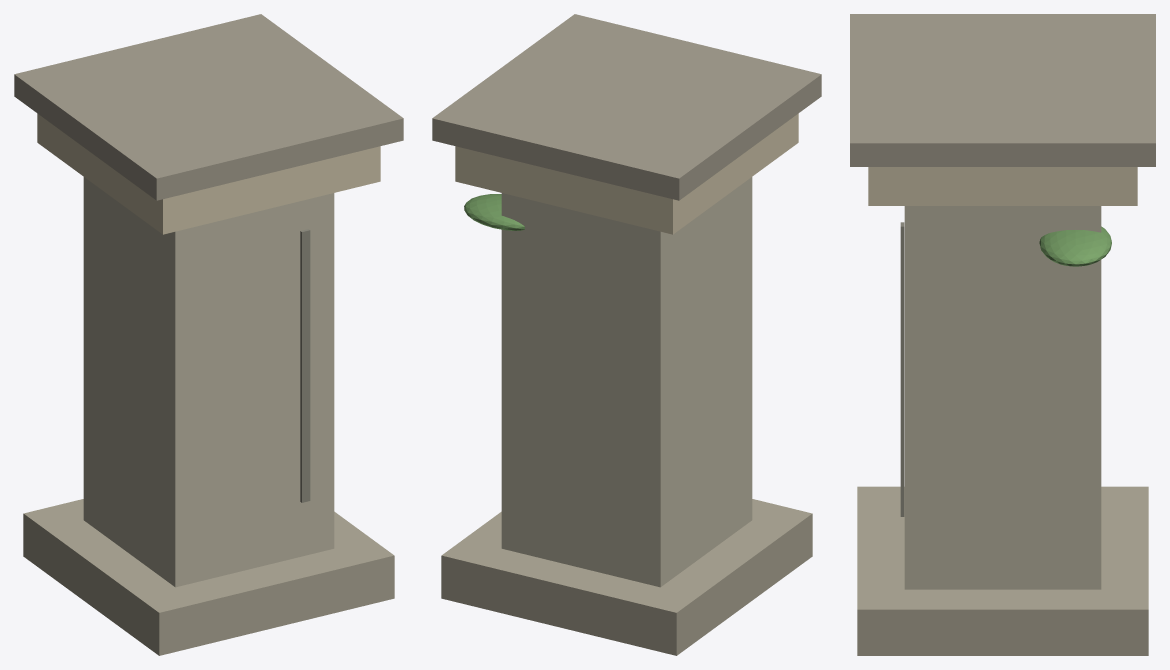
Rendered from temple_ruin.glb.
3 views of the same model, side by side, from view 1: azimuth 30°, elevation 25°; view 2: azimuth 150°, elevation 25°; view 3: azimuth 270°, elevation 25° (orthographic). The views are drawn at different scales.
Visible parts, largest first — view 1: pillar, top, base, capital, carving; view 2: pillar, top, base, capital, moss; view 3: pillar, top, base, capital, moss, carving.
Boxes of the visible parts, <box> form: pillar: <box>83,177,334,587</box>; top: <box>14,14,403,200</box>; base: <box>23,499,394,655</box>; capital: <box>37,113,380,234</box>; carving: <box>300,229,310,502</box>; pillar: <box>501,177,752,587</box>; top: <box>432,14,821,200</box>; base: <box>441,499,812,655</box>; capital: <box>455,113,798,234</box>; moss: <box>464,194,524,230</box>; pillar: <box>904,206,1101,589</box>; top: <box>850,14,1155,166</box>; base: <box>857,486,1148,655</box>; capital: <box>868,167,1137,205</box>; moss: <box>1039,226,1111,266</box>; carving: <box>900,222,904,516</box>.
Size of the model in its own units: 2.12 by 3.91 by 2.1.
